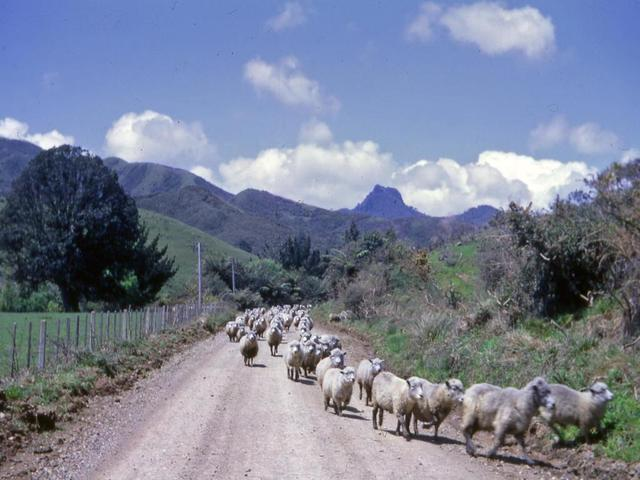sheep: (230, 321, 267, 372)
